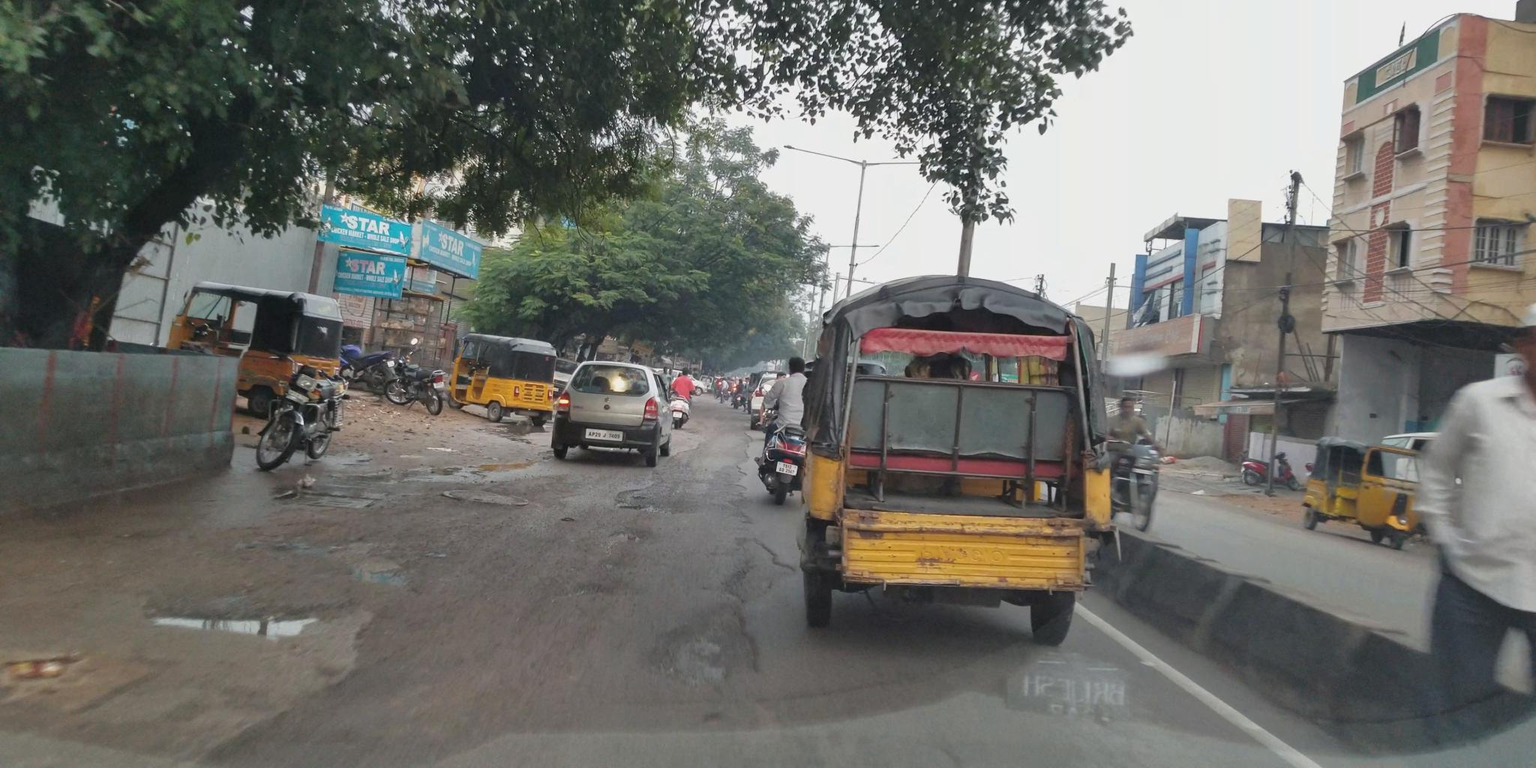streetlight: (766, 128, 863, 178), (824, 222, 894, 260)
